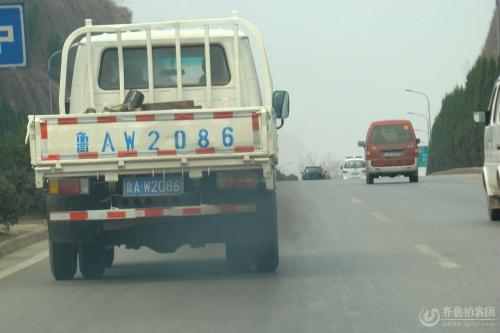smoke: (159, 168, 328, 295)
